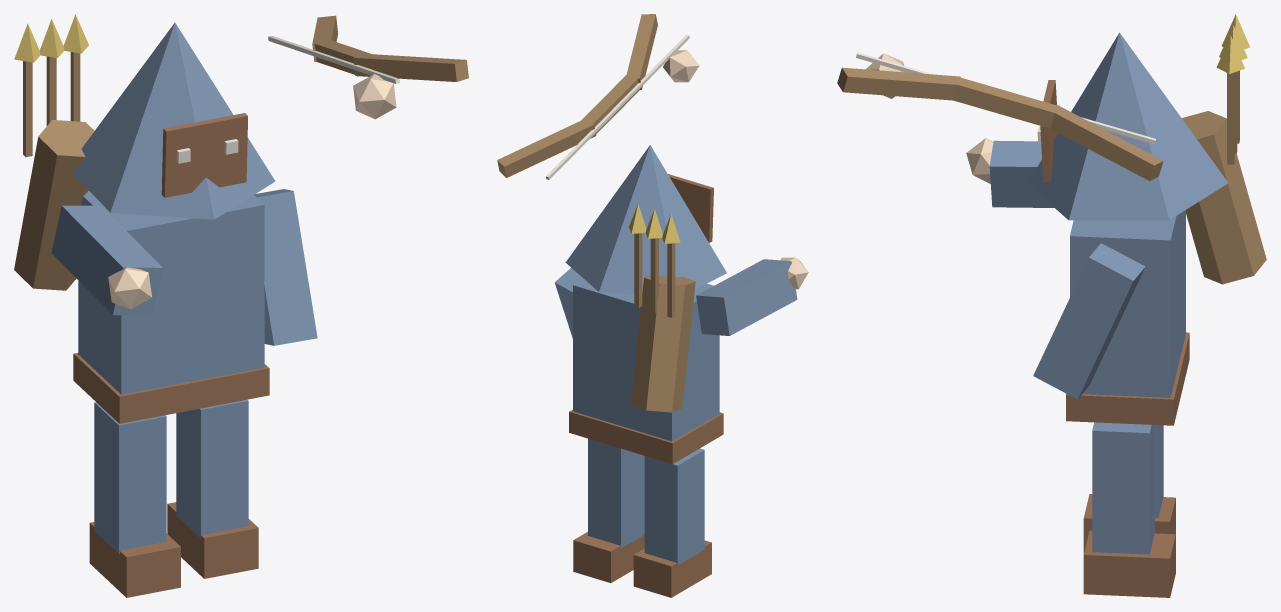
File: npcpose_archer_attack_03.glb
The picture shows the model from 3 angles, left to right: view 1: azimuth 30°, elevation 25°; view 2: azimuth 150°, elevation 25°; view 3: azimuth 270°, elevation 25°; orthographic projection. The views are drawn at different scales.
Parts seen in each view (by area): view 1: npcpose; view 2: npcpose; view 3: npcpose.
Part boxes in pixels (x1,y1,x2,y2): npcpose: (14,14,468,597); npcpose: (497,14,808,597); npcpose: (837,14,1266,597).
Bounding box in the file's own units: 0.9618 × 1.71 × 1.19.
